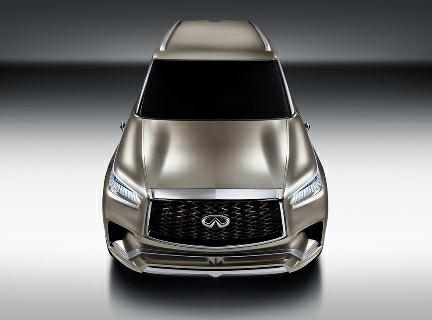英菲尼迪-QX80: (97, 15, 334, 293)
